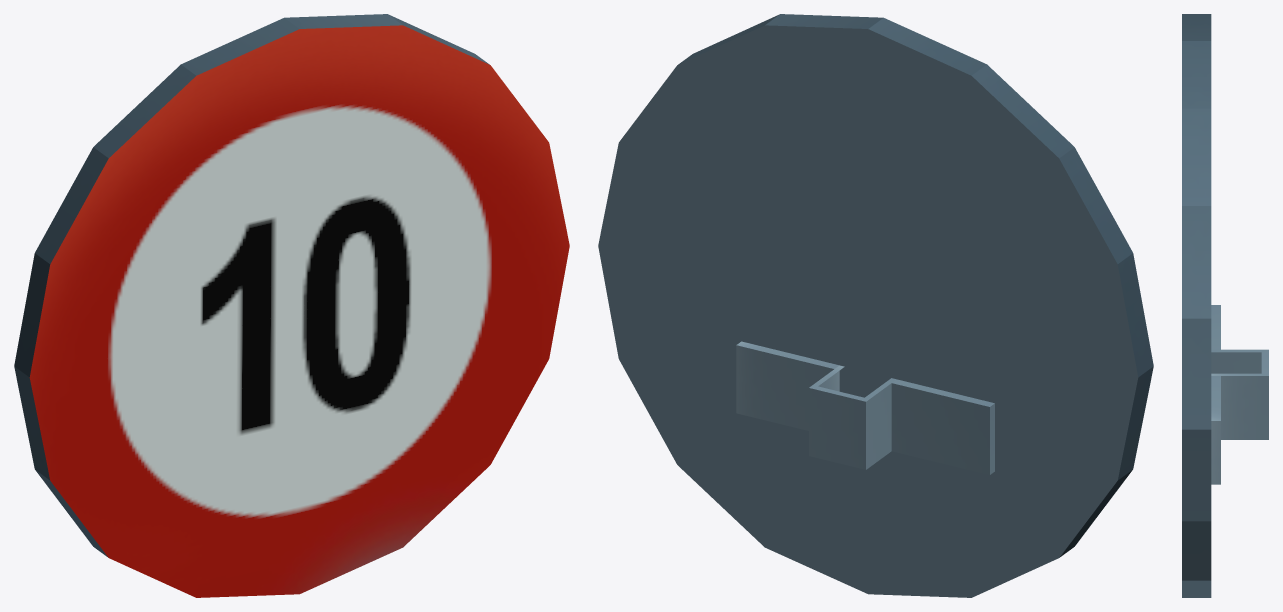
The model's file is Sign22Austrian.fbx.
3 views of the same model, side by side, from view 1: azimuth 30°, elevation 25°; view 2: azimuth 150°, elevation 25°; view 3: azimuth 270°, elevation 25° (orthographic). The views are drawn at different scales.
Visible parts, largest first — view 1: Sign22Austrian; view 2: Sign22Austrian; view 3: Sign22Austrian.
Boxes of the visible parts, bbox=[...] form: Sign22Austrian: bbox=[14, 14, 569, 597]; Sign22Austrian: bbox=[598, 14, 1153, 597]; Sign22Austrian: bbox=[1182, 14, 1268, 597].
Size of the model in its own units: 1 by 1 by 0.1489.
